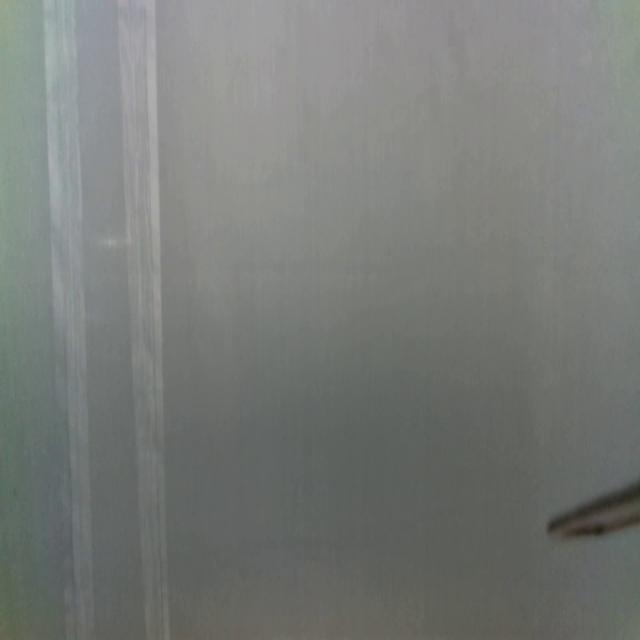crease: (118, 0, 171, 639), (43, 0, 96, 638)
